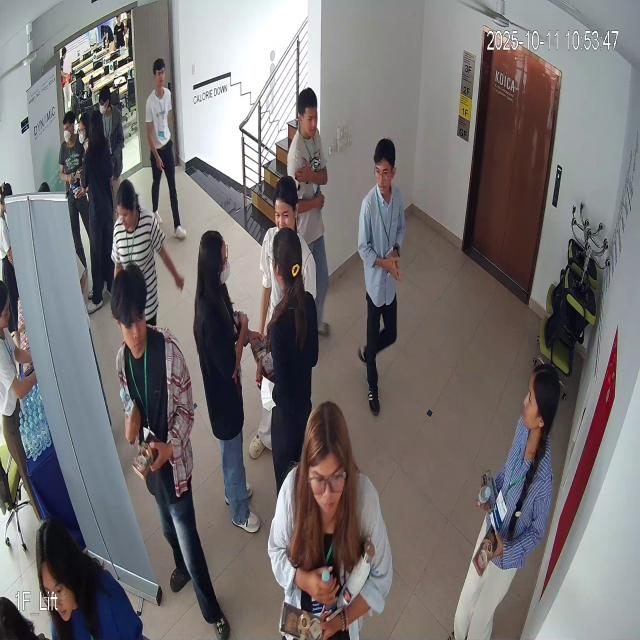face: (109, 258, 151, 362), (109, 172, 144, 238), (372, 133, 403, 197), (296, 84, 320, 143)
